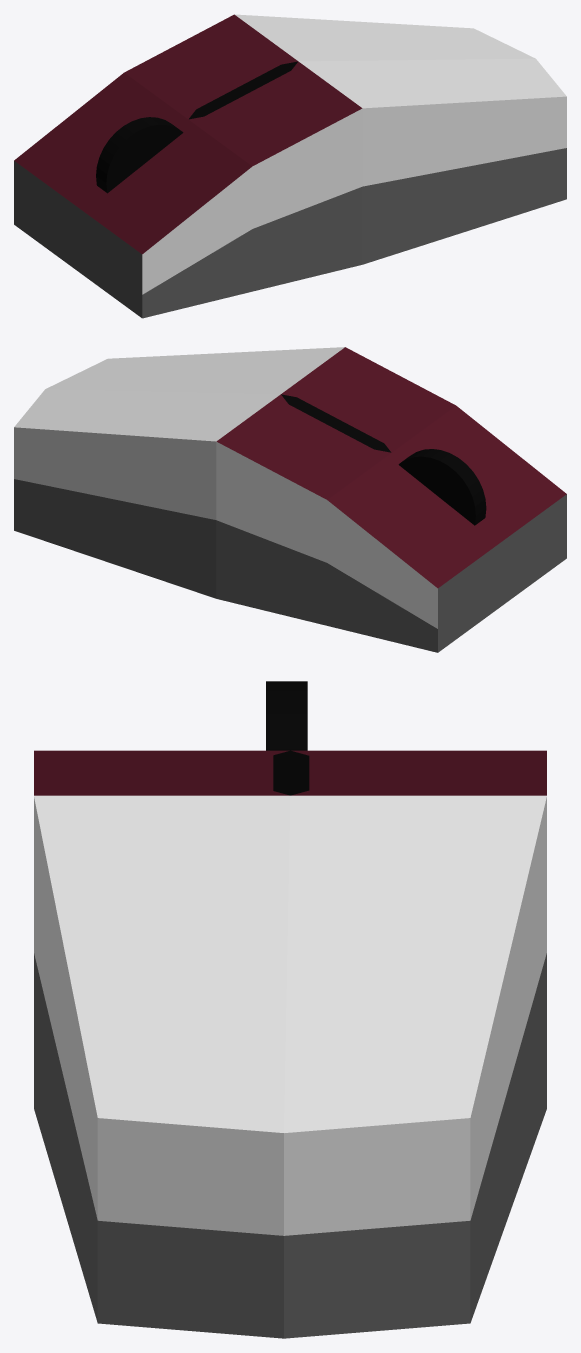
File: mouse.fbx
The picture shows the model from 3 angles, top to bottom: view 1: azimuth 30°, elevation 25°; view 2: azimuth 150°, elevation 25°; view 3: azimuth 270°, elevation 25°; orthographic projection. The views are drawn at different scales.
Visible parts, largest first — view 1: Cube, Cylinder; view 2: Cube, Cylinder; view 3: Cube, Cylinder.
Boxes of the visible parts, box(x1,y1,x2,y2) form: Cube: box(14, 14, 566, 318); Cylinder: box(96, 117, 183, 193); Cube: box(14, 347, 566, 652); Cylinder: box(398, 449, 486, 525); Cube: box(34, 750, 546, 1338); Cylinder: box(266, 681, 307, 750).
Bounding box in the file's own units: 23.81 × 7.8 × 11.6.
